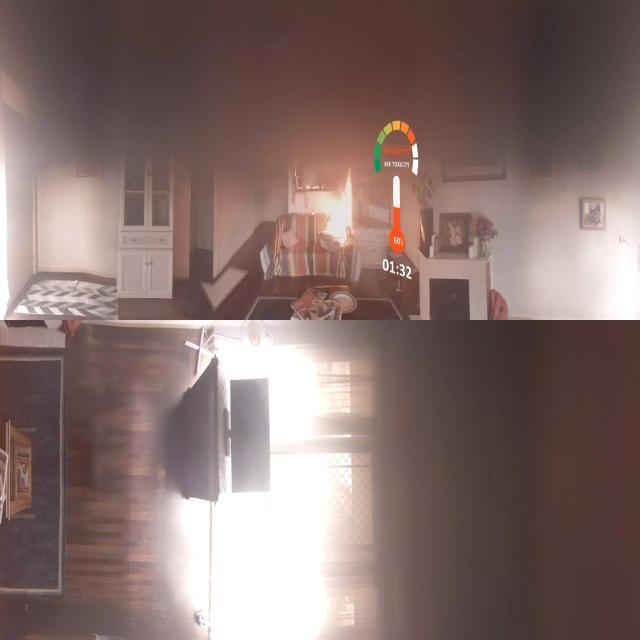Fire: (283, 132, 386, 272)
